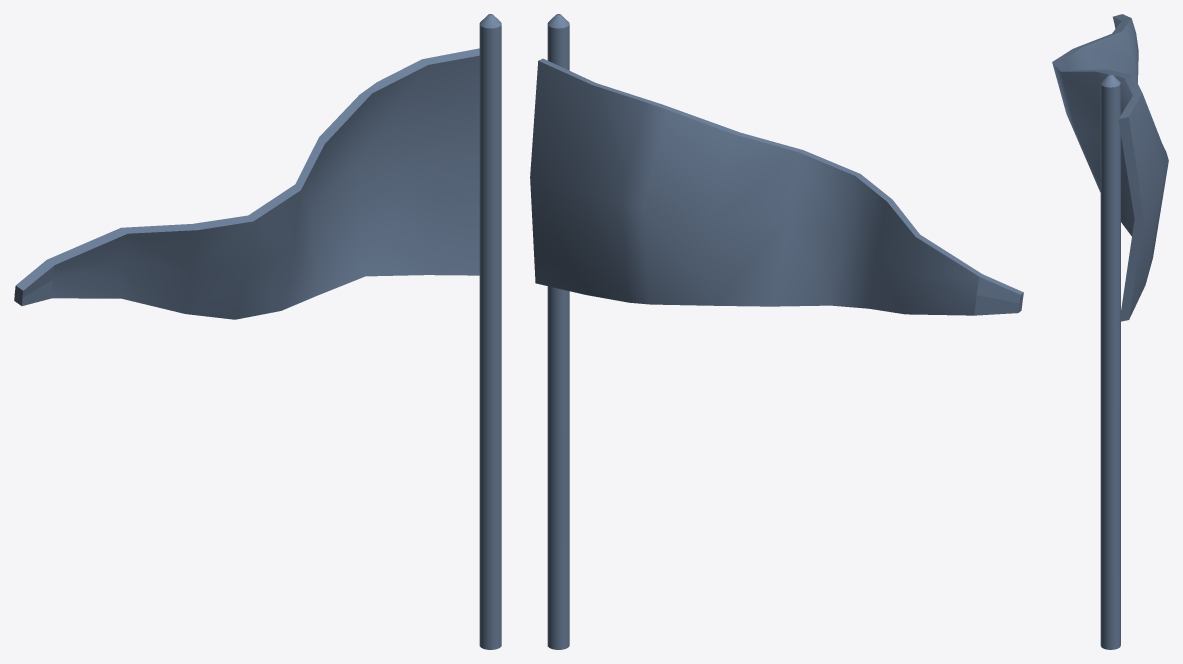
The model's file is Flag.fbx.
3 views of the same model, side by side, from view 1: azimuth 30°, elevation 25°; view 2: azimuth 150°, elevation 25°; view 3: azimuth 270°, elevation 25° (orthographic). The views are drawn at different scales.
Parts seen in each view (by area): view 1: pPlane2, pCylinder1; view 2: pPlane2, pCylinder1; view 3: pPlane2, pCylinder1.
Part boxes in pixels (<box>): pPlane2: <box>14,48,479,319</box>; pCylinder1: <box>479,14,501,649</box>; pPlane2: <box>530,58,1023,315</box>; pCylinder1: <box>547,14,569,649</box>; pPlane2: <box>1052,14,1168,321</box>; pCylinder1: <box>1100,74,1120,649</box>.
Size of the model in its own units: 18.52 by 23.15 by 4.3.
